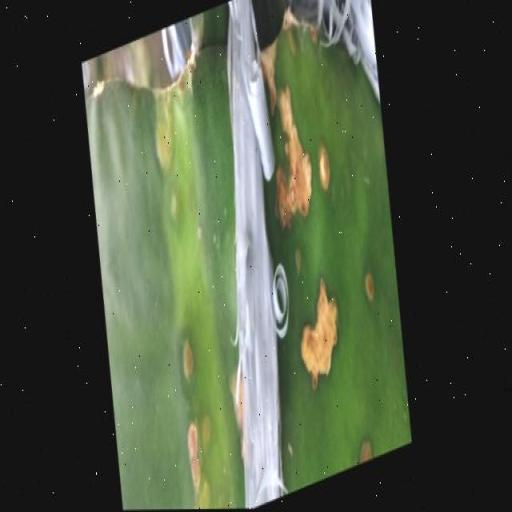stemcanker: (354, 253, 384, 325), (172, 334, 206, 397), (311, 131, 338, 202), (165, 182, 186, 232), (192, 214, 208, 252)
